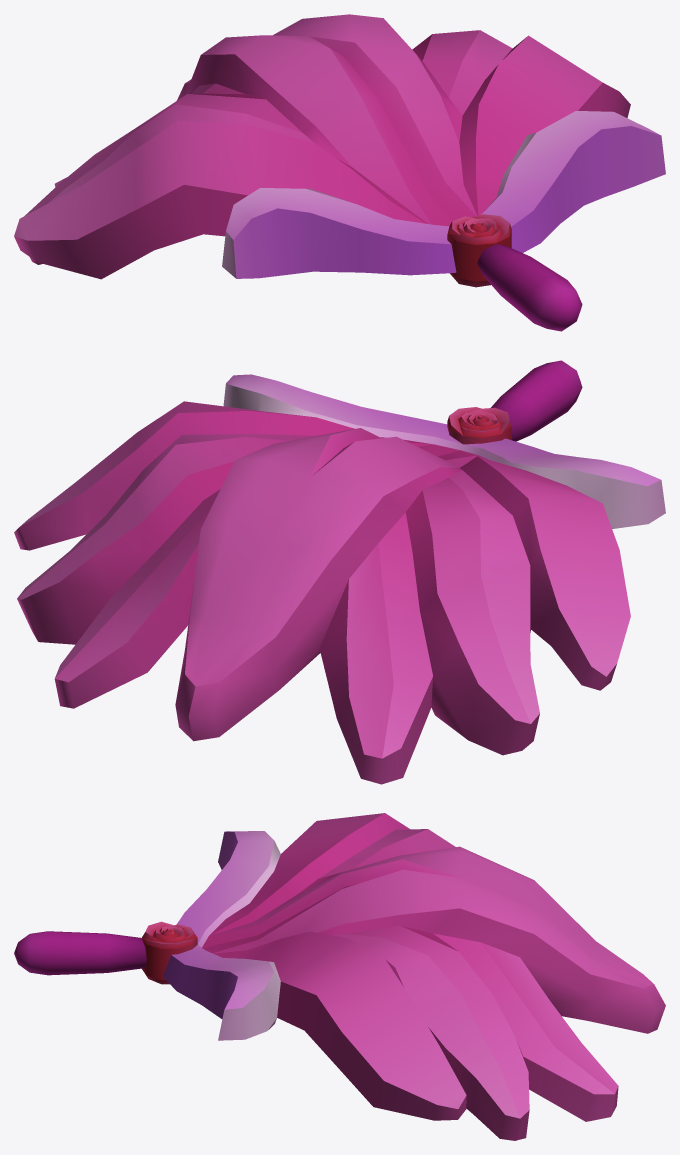
Rendered from Melee_Festivefeather.fbx.
3 renders of one model, top to bottom at view 1: azimuth 30°, elevation 25°; view 2: azimuth 150°, elevation 25°; view 3: azimuth 270°, elevation 25°, orthographic. The views are drawn at different scales.
Visible parts, largest first — view 1: Melee_Festivefeather; view 2: Melee_Festivefeather; view 3: Melee_Festivefeather.
Boxes of the visible parts, left/top/right/bottom form: Melee_Festivefeather: left=14, top=14, right=665, bottom=331; Melee_Festivefeather: left=14, top=360, right=665, bottom=784; Melee_Festivefeather: left=14, top=813, right=665, bottom=1140.
Bounding box in the file's own units: 0.9617 × 0.3412 × 1.07.
